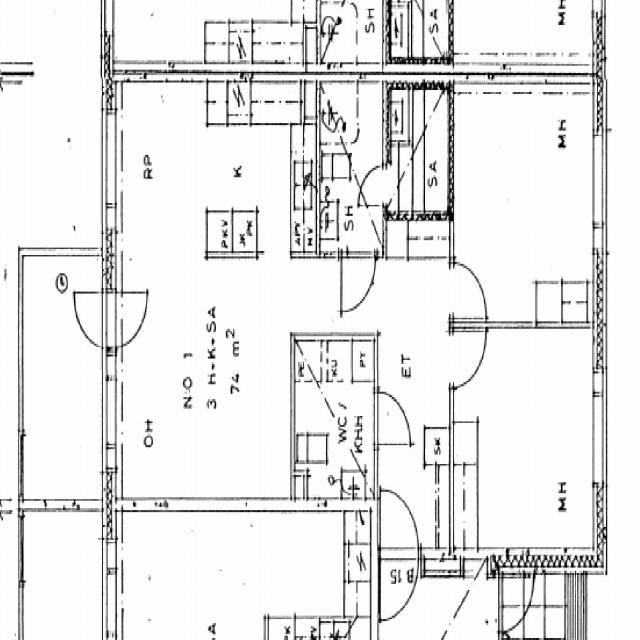door: (381, 487, 418, 577), (381, 547, 418, 637), (103, 292, 150, 348), (68, 292, 115, 348), (450, 263, 488, 318), (451, 331, 488, 386), (342, 252, 375, 310), (374, 392, 410, 443), (357, 166, 386, 206)
